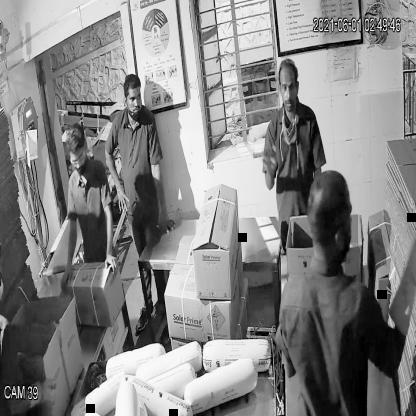goggles: (67, 149, 90, 171)
no_goggles: (276, 77, 302, 100), (120, 90, 144, 110)
